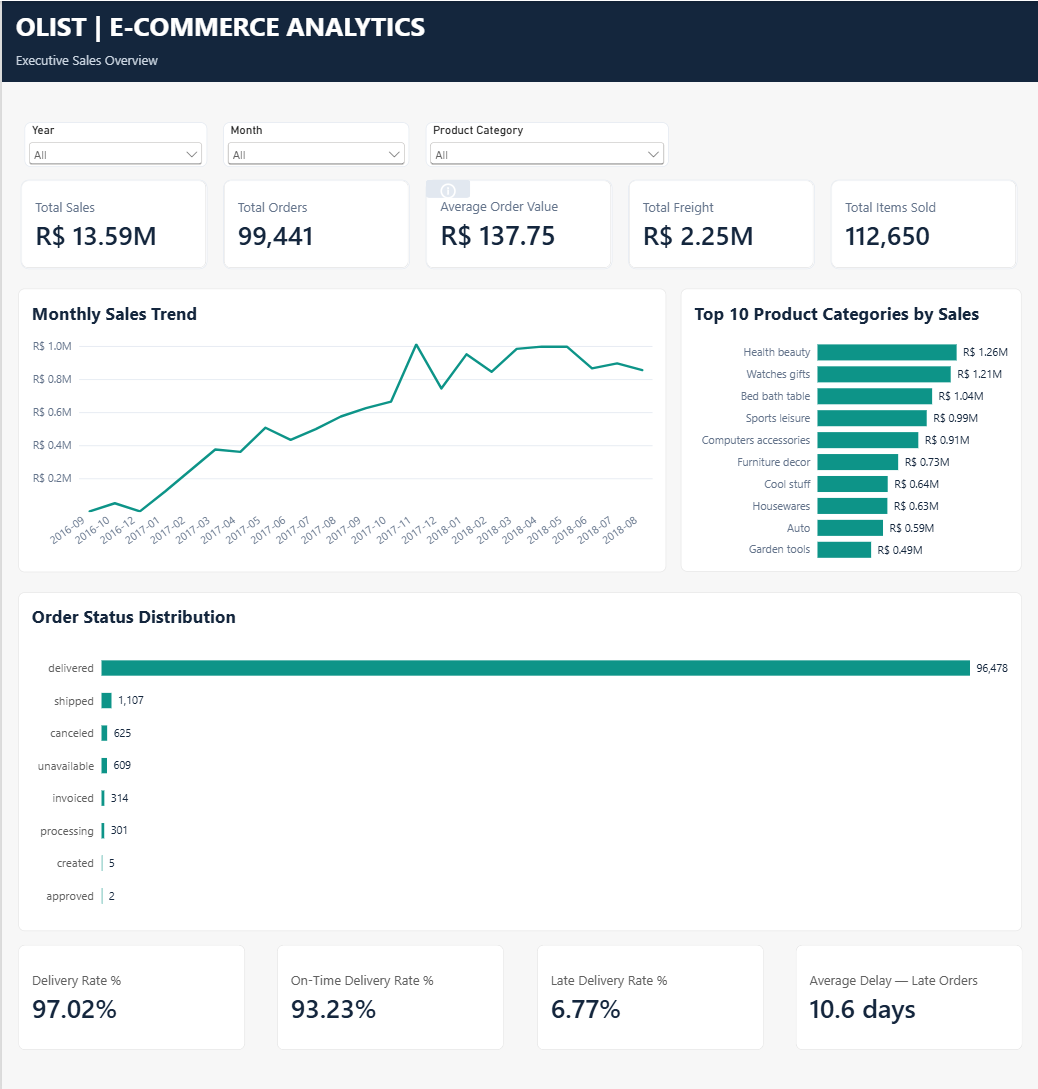

The page's visual inventory and layout, read from the dashboard file:
{"tool":"powerbi","page":{"name":"Executiive Overview","canvas":[1280,1350],"ordinal":0},"visuals":[{"type":"shape","box":[0,0,1919.8,100],"z":0},{"type":"cardVisual","fields":{"Data":["Order_Items.Total Sales"]},"box":[22.5,220,230,110],"z":1000},{"type":"cardVisual","fields":{"Data":["orders.Total Orders"]},"box":[272.5,220,230,110],"z":2000},{"type":"cardVisual","fields":{"Data":["Order_Items.Average Order Value"]},"box":[522.5,220,230,110],"z":3000},{"type":"cardVisual","fields":{"Data":["Order_Items.Total Freight"]},"box":[772.5,220,230,110],"z":4000},{"type":"cardVisual","fields":{"Data":["Order_Items.Total Items Sold"]},"box":[1022.5,220,230,110],"z":5000},{"type":"textbox","box":[17.3,9.9,524.7,51.9],"z":6000},{"type":"textbox","box":[17.3,61.7,191.4,32.1],"z":7000},{"type":"lineChart","title":"Monthly Sales Trend","fields":{"Category":["DimDate.Year-Month"],"Y":["Order_Items.Total Sales"]},"box":[20.1,354.9,800,350],"z":8000},{"type":"clusteredBarChart","title":"Top 10 Product Categories by Sales","fields":{"Category":["Products.Category_Display"],"Y":["Order_Items.Total Sales"]},"box":[838,354.9,421.1,349.8],"z":9000},{"type":"clusteredBarChart","title":"Order Status Distribution","fields":{"Category":["orders.order_status"],"Y":["orders.Total Orders"]},"box":[20.1,729.9,1239.2,418.2],"z":10000},{"type":"cardVisual","fields":{"Data":["orders.Delivery Rate %"]},"box":[20.6,1165.6,280,130],"z":11000},{"type":"cardVisual","fields":{"Data":["orders.On-Time Delivery Rate %"]},"box":[340,1165.6,280,130],"z":12000},{"type":"cardVisual","title":"bbgf","fields":{"Data":["orders.Average Delivery Delay (Days)"]},"box":[980,1165.6,280,130],"z":13000},{"type":"cardVisual","fields":{"Data":["orders.Late Delivery Rate %"]},"box":[660,1165.6,280,130],"z":14000},{"type":"slicer","fields":{"Values":["DimDate.Year"]},"box":[27.8,149.7,225.3,55.6],"z":15000},{"type":"slicer","fields":{"Values":["DimDate.Month Name"]},"box":[273.1,149.7,229.9,55.6],"z":16000},{"type":"slicer","fields":{"Values":["Products.Category_Display"]},"box":[523.2,149.7,300,55.6],"z":17000},{"type":"actionButton","box":[523.2,220.7,55.6,24.7],"z":17001}]}

Visuals, with their boxes in screenshot pixels (x1, y1, x2, y2), scaled from the page's 1280x1350 canvas onto the 1038x1089 screenshot:
shape: (0,0,1037,81)
cardVisual - Order_Items.Total Sales: (18,177,205,266)
cardVisual - orders.Total Orders: (221,177,407,266)
cardVisual - Order_Items.Average Order Value: (424,177,610,266)
cardVisual - Order_Items.Total Freight: (626,177,813,266)
cardVisual - Order_Items.Total Items Sold: (829,177,1016,266)
textbox: (14,8,440,50)
textbox: (14,50,169,76)
"Monthly Sales Trend" lineChart: (16,286,665,569)
"Top 10 Product Categories by Sales" clusteredBarChart: (680,286,1021,568)
"Order Status Distribution" clusteredBarChart: (16,589,1021,926)
cardVisual - orders.Delivery Rate %: (17,940,244,1045)
cardVisual - orders.On-Time Delivery Rate %: (276,940,503,1045)
"bbgf" cardVisual: (795,940,1022,1045)
cardVisual - orders.Late Delivery Rate %: (535,940,762,1045)
slicer - DimDate.Year: (23,121,205,166)
slicer - DimDate.Month Name: (221,121,408,166)
slicer - Products.Category_Display: (424,121,668,166)
actionButton: (424,178,469,198)
